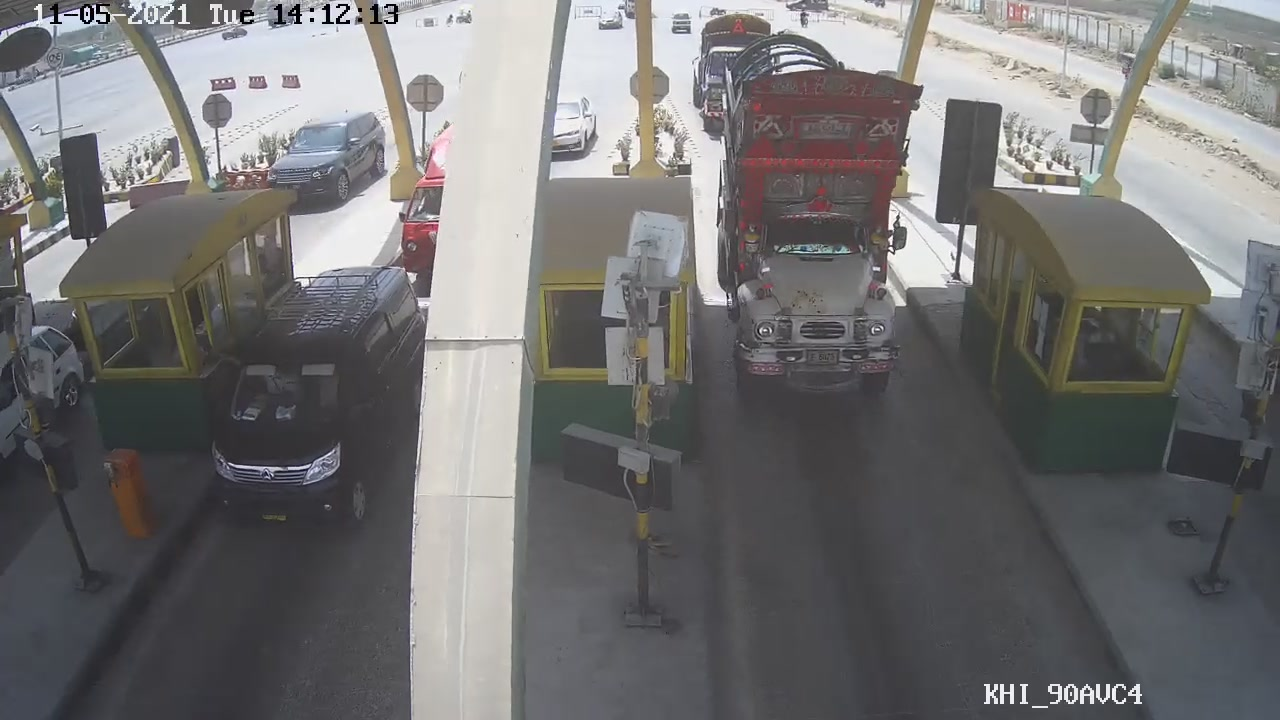F5: (692, 40, 938, 407)
